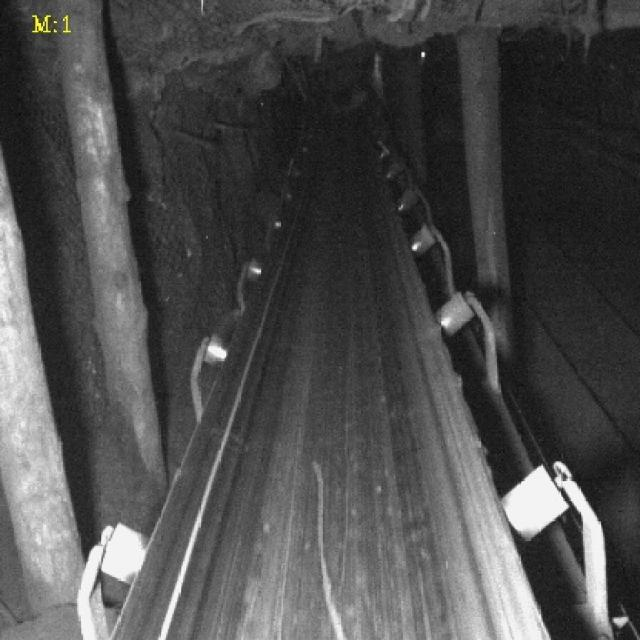bolt: (309, 463, 363, 640)
